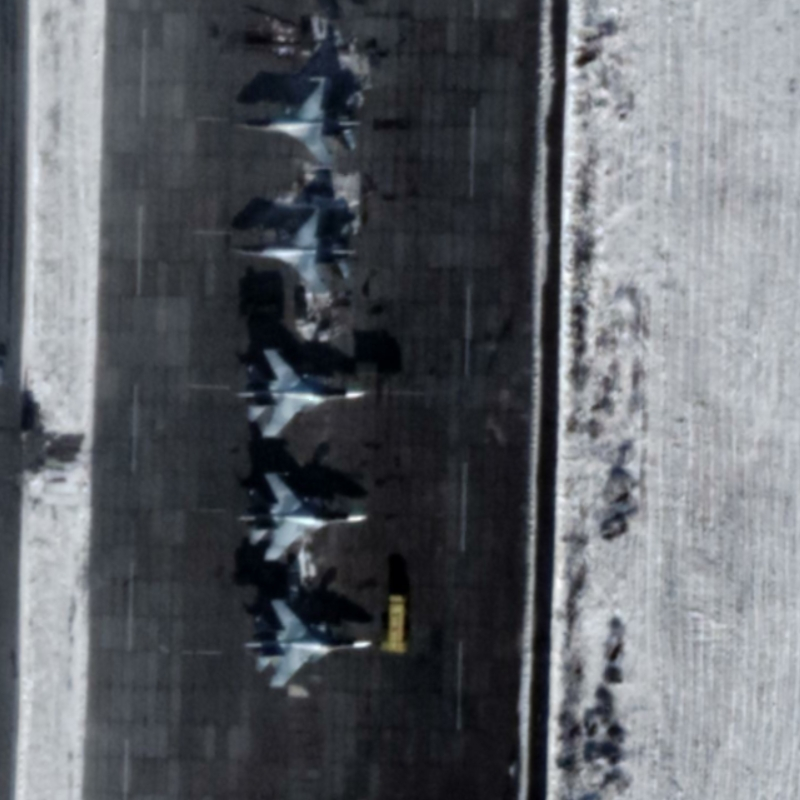A1: (232, 73, 364, 173), (234, 200, 360, 301)
A19: (234, 466, 375, 564), (234, 344, 371, 442), (241, 596, 376, 690)
